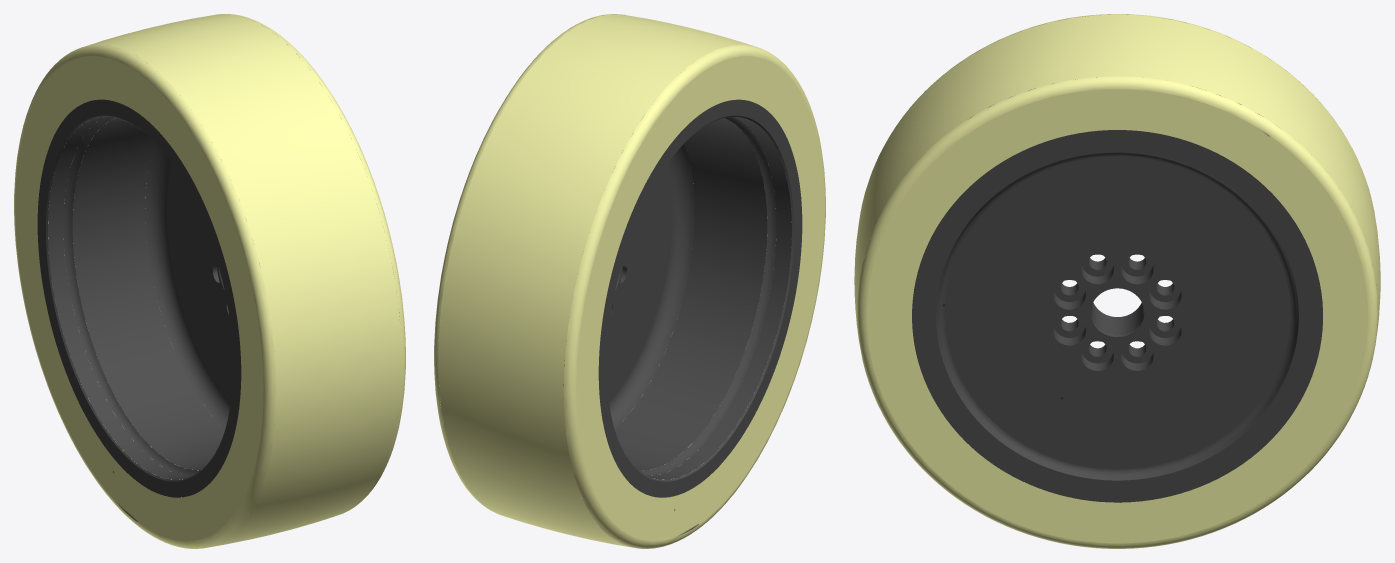
The model's file is main_wheel.dae.
The picture shows the model from 3 angles, left to right: view 1: azimuth 30°, elevation 25°; view 2: azimuth 150°, elevation 25°; view 3: azimuth 270°, elevation 25°; orthographic projection.
Parts seen in each view (by area): view 1: main_wheel; view 2: main_wheel; view 3: main_wheel.
Part boxes in pixels (box(x1,y1,x2,y2)): main_wheel: box(14, 14, 405, 548); main_wheel: box(434, 14, 825, 548); main_wheel: box(854, 14, 1380, 548).
Size of the model in its own units: 0.05 by 0.16 by 0.16.
Materials: 1 (1 with a texture image).
